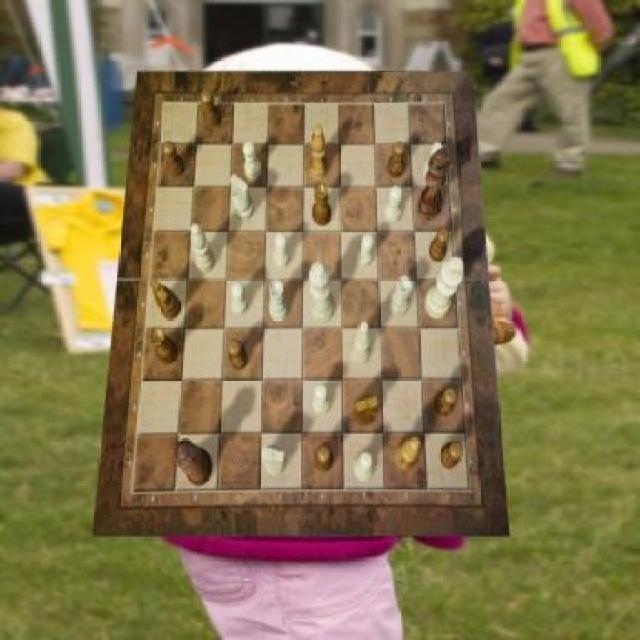bishop: (310, 125, 328, 179), (395, 435, 420, 470)
black-bishop: (418, 148, 449, 220)
black-king: (149, 277, 182, 319), (354, 395, 378, 428)
black-knight: (163, 142, 185, 179), (202, 89, 222, 128), (429, 228, 449, 262), (434, 388, 457, 417), (388, 142, 405, 179), (440, 442, 463, 469), (228, 340, 248, 371), (316, 446, 334, 474)
black-pawn: (174, 440, 213, 488)
black-queen: (150, 326, 178, 365), (312, 181, 332, 227)
black-rook: (192, 223, 217, 272), (351, 322, 372, 366)
white-bishop: (425, 257, 462, 319)
white-king: (230, 174, 254, 221), (262, 444, 286, 476)
white-knight: (422, 143, 442, 182), (243, 142, 262, 180), (385, 186, 402, 224), (354, 451, 374, 482), (274, 232, 291, 268), (356, 234, 374, 268), (313, 385, 332, 417), (231, 282, 248, 316)
white-pawn: (310, 261, 336, 324)
white-queen: (389, 277, 413, 317), (269, 278, 289, 321)
